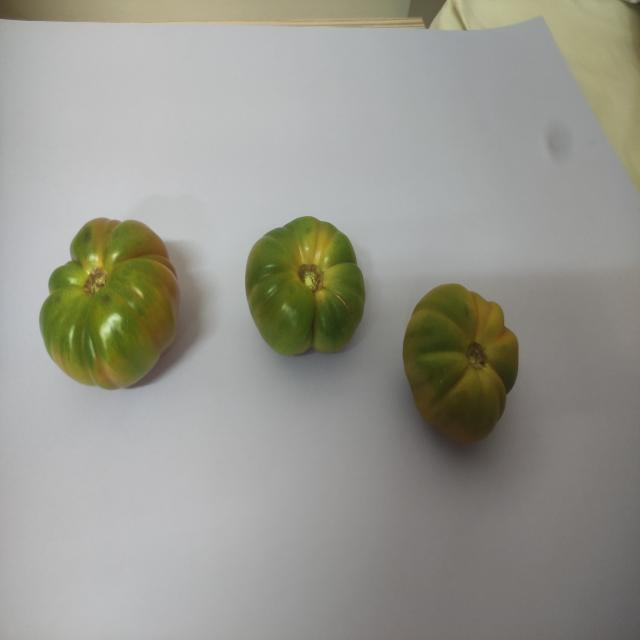yesil: (32, 210, 192, 389), (396, 264, 536, 457), (231, 204, 379, 368)
